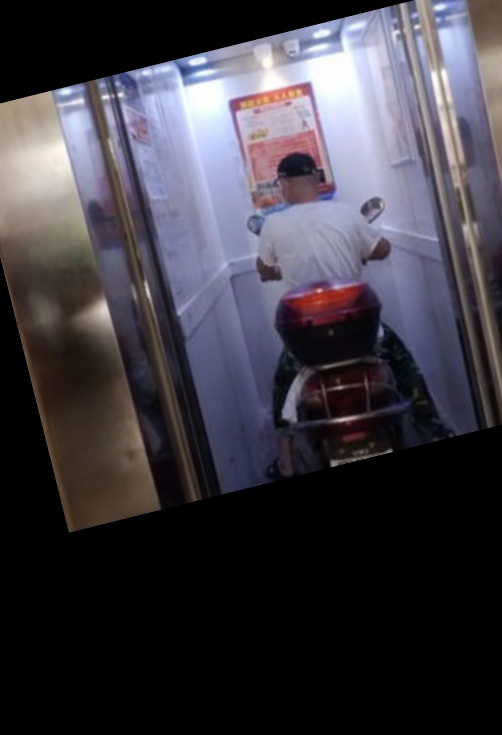ebike: (247, 197, 397, 459)
person: (259, 146, 453, 448)
